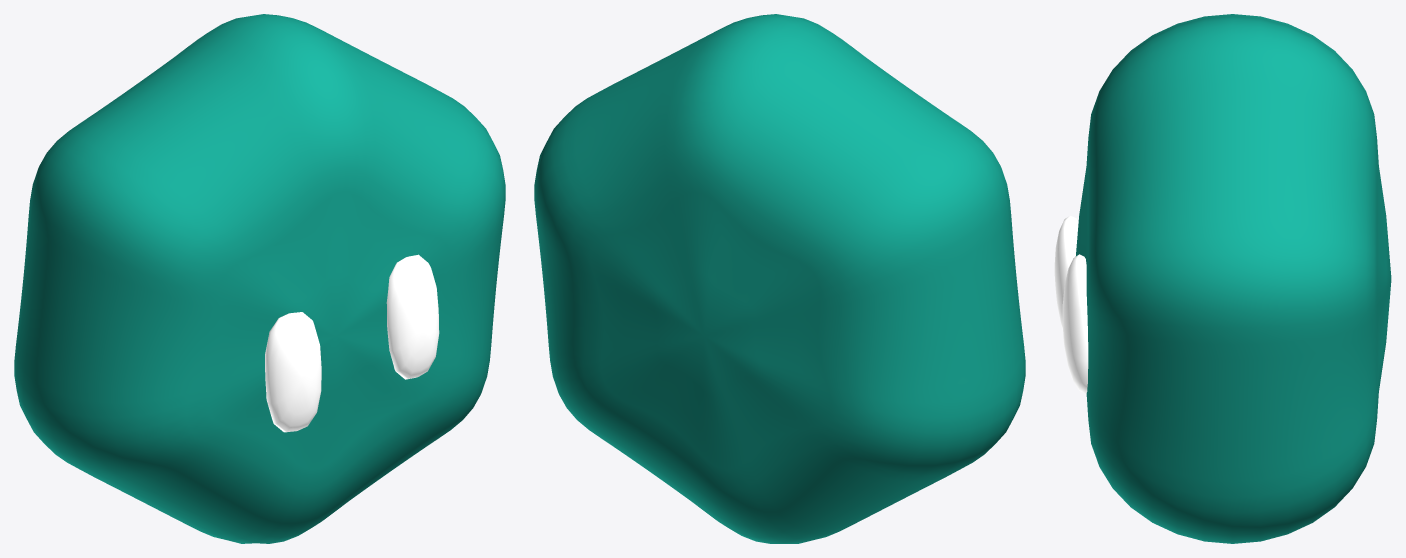
The model's file is bookmarks-brain.glb.
The picture shows the model from 3 angles, left to right: view 1: azimuth 30°, elevation 25°; view 2: azimuth 150°, elevation 25°; view 3: azimuth 270°, elevation 25°; orthographic projection. The views are drawn at different scales.
Visible parts, largest first — view 1: body, eye_L, eye_R; view 2: body; view 3: body, eye_R, eye_L.
Boxes of the visible parts, x1,y1,x2,y2 form: body: (14,14,505,543); eye_L: (265,312,321,432); eye_R: (386,254,439,379); body: (534,14,1025,543); body: (1075,14,1391,543); eye_R: (1062,254,1088,393); eye_L: (1054,215,1078,329).
Bounding box in the file's own units: 0.7546 × 0.7807 × 0.4669.
